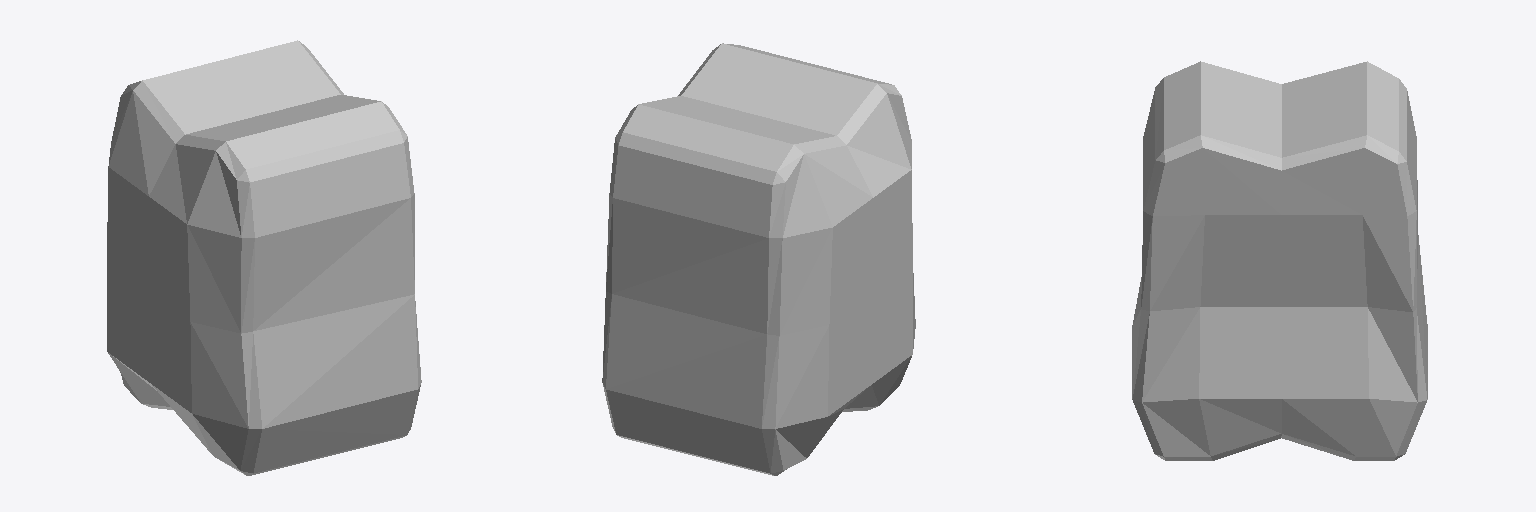
The model's file is Sack for Kaaroot.obj.
The picture shows the model from 3 angles: view 1: azimuth 30°, elevation 25°; view 2: azimuth 150°, elevation 25°; view 3: azimuth 270°, elevation 25°; orthographic projection.
Size of the model in its own units: 1.62 by 2.37 by 1.95.